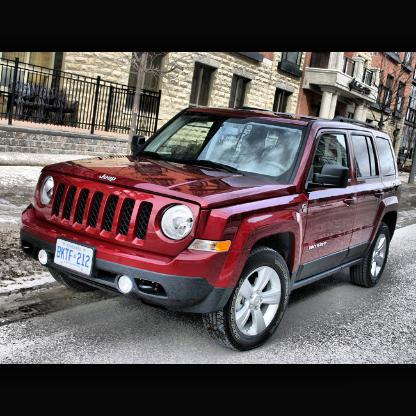Jeep Patriot SUV 2012: (20, 105, 405, 354)
